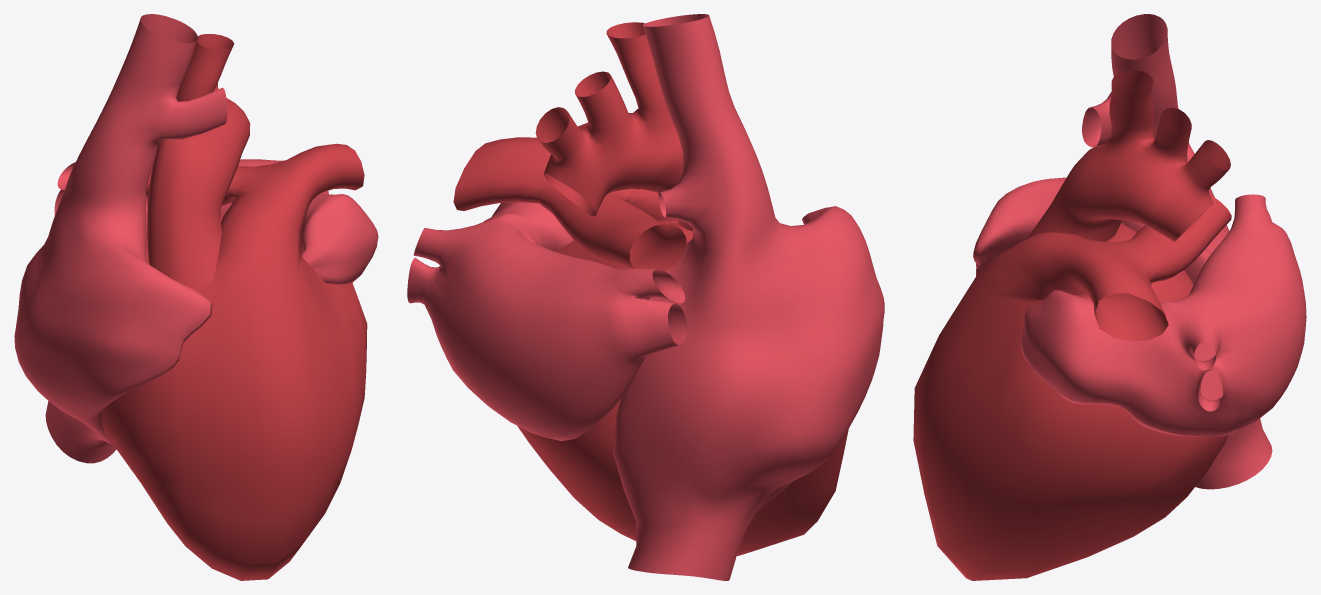
The model's file is Corazon.fbx.
3 views of the same model, side by side, from view 1: azimuth 30°, elevation 25°; view 2: azimuth 150°, elevation 25°; view 3: azimuth 270°, elevation 25° (orthographic). The views are drawn at different scales.
Visible parts, largest first — view 1: Cube.001; view 2: Cube.001; view 3: Cube.001.
Part boxes in pixels (left/top/right/bottom): Cube.001: left=14, top=14, right=378, bottom=580; Cube.001: left=407, top=14, right=884, bottom=580; Cube.001: left=913, top=14, right=1306, bottom=580.
Bounding box in the file's own units: 36.11 × 53 × 34.8.
